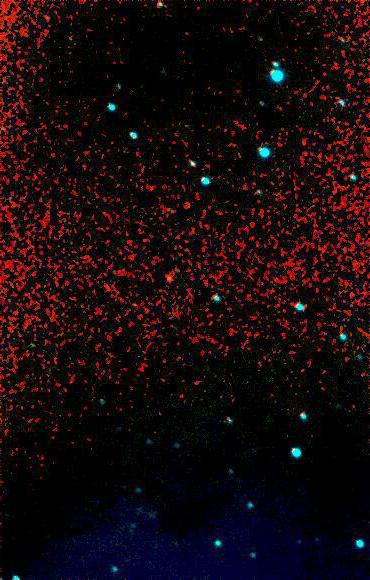star: (161, 528, 191, 558)
